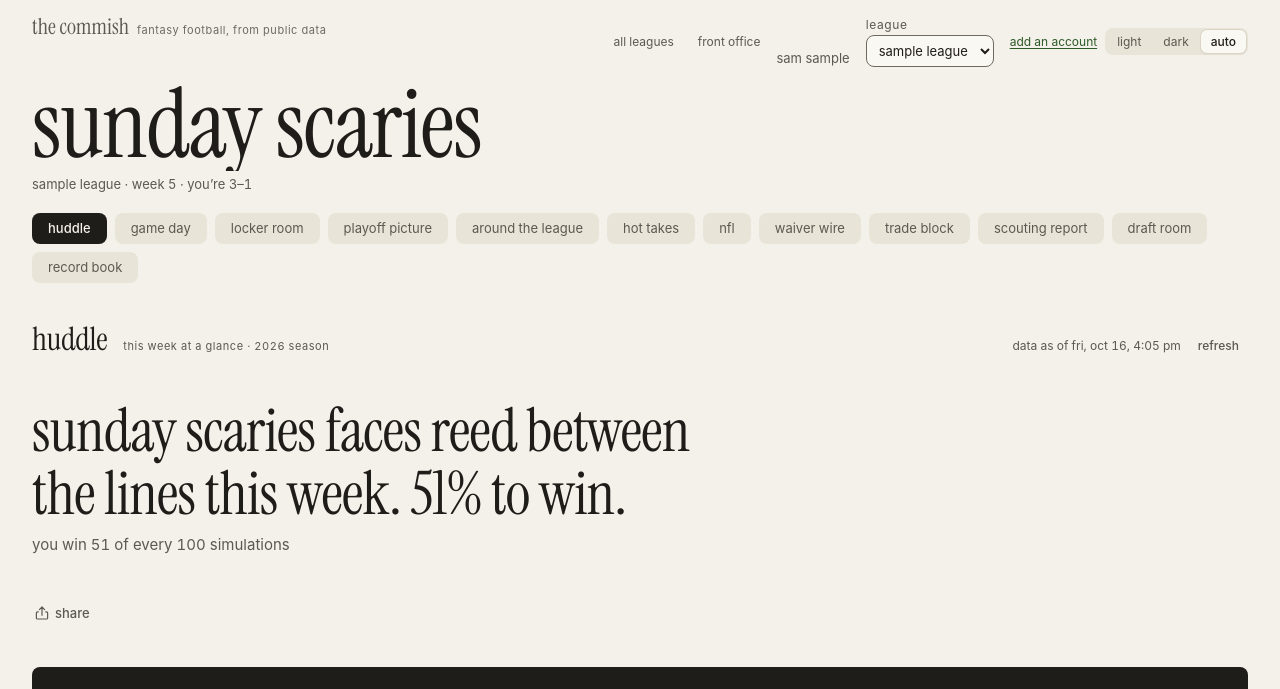
landmarks and the skip link › moves focus to main after a page change, so a keyboard user starts at the top
Click the link "hot takes".
click(651, 229)  # box [607,213,695,244]
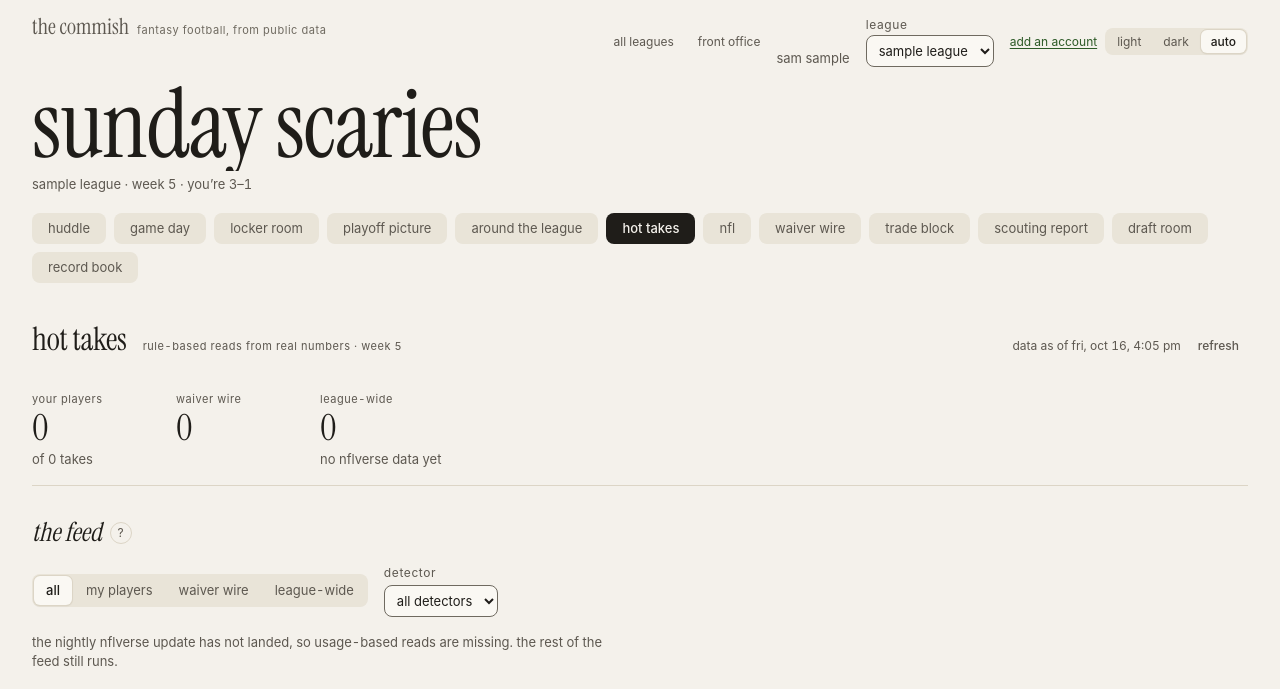
Check: the heading "hot takes" is shown, box [32,323,127,355]
